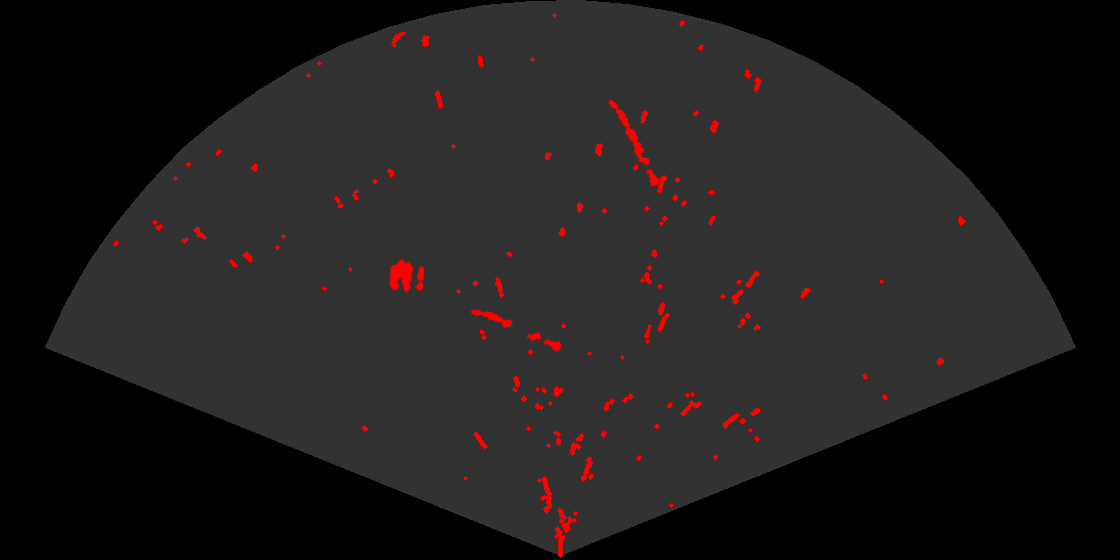ball: (388, 258, 426, 294)
chain: (607, 98, 662, 188), (469, 308, 563, 353)
